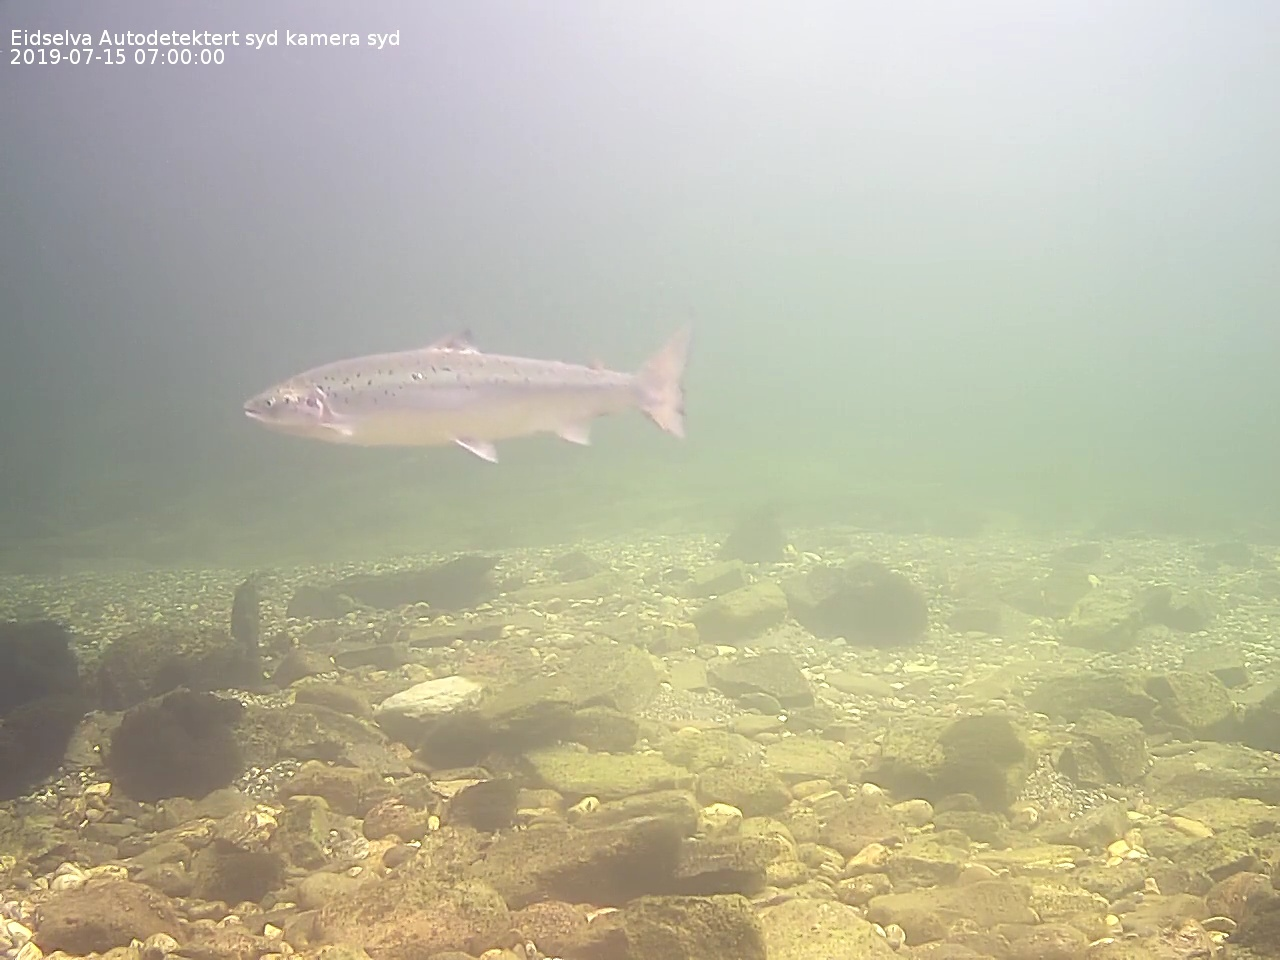salmon: (236, 311, 706, 471)
